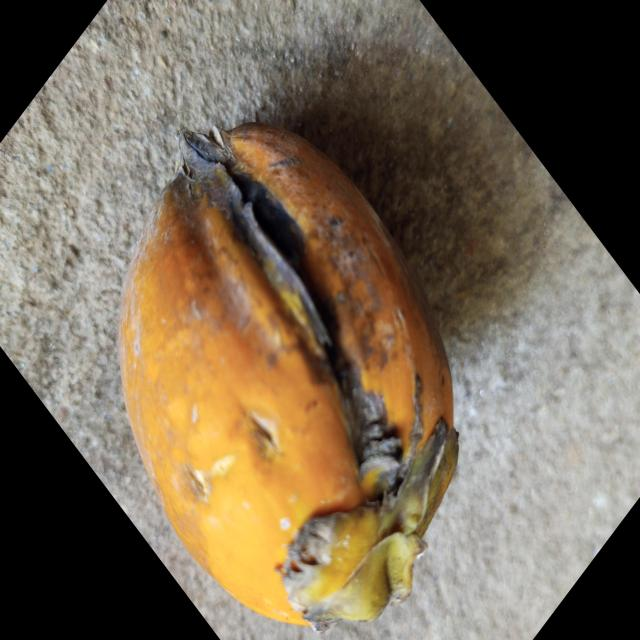damaged: (116, 124, 463, 636)
